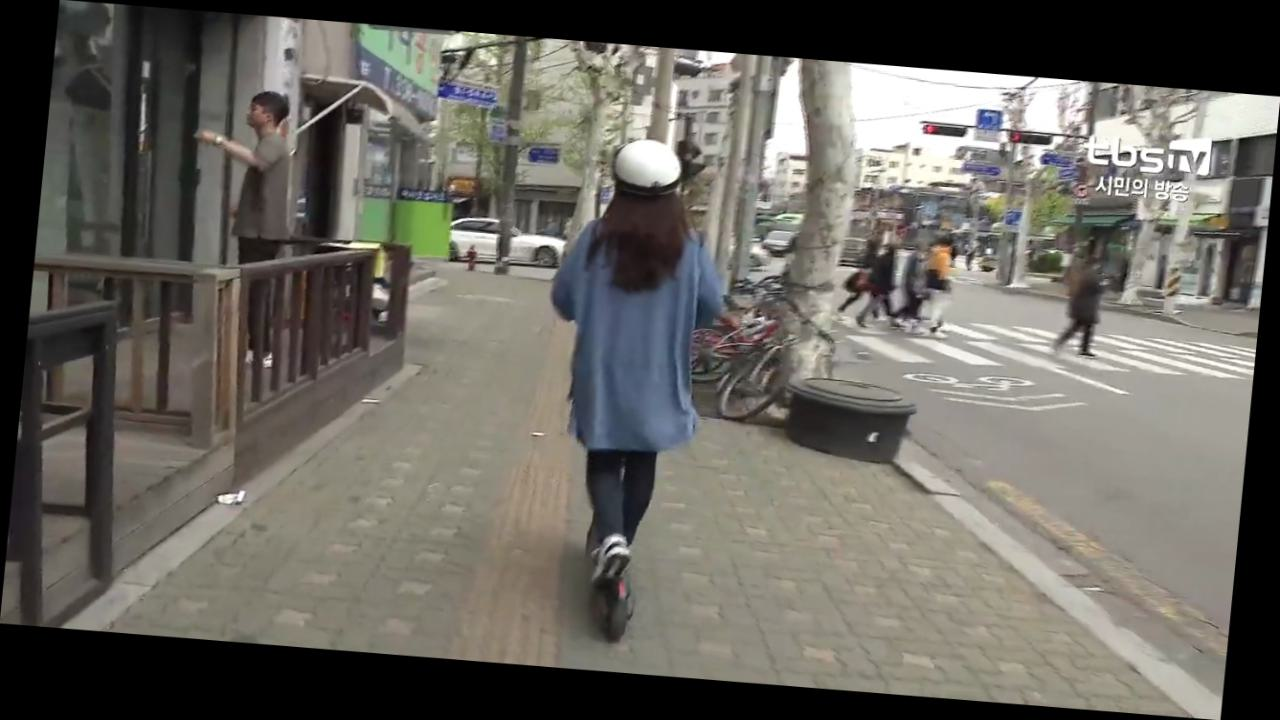helmet: (517, 131, 741, 654)
